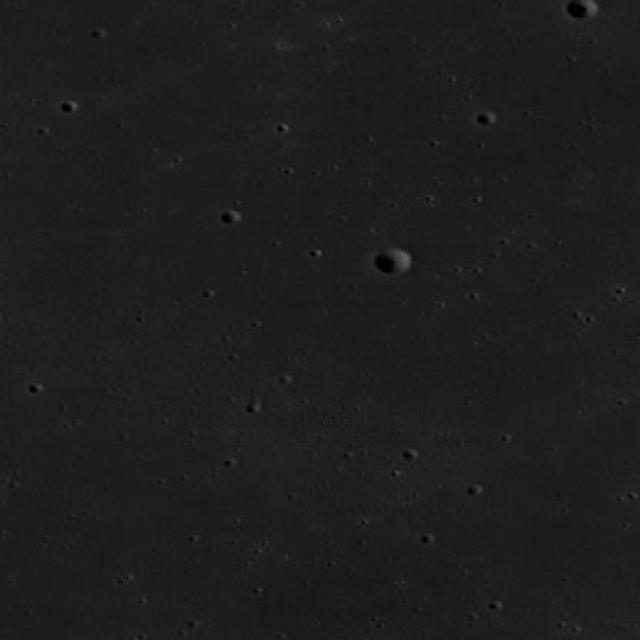crater: (374, 248, 409, 274), (565, 0, 597, 18)
